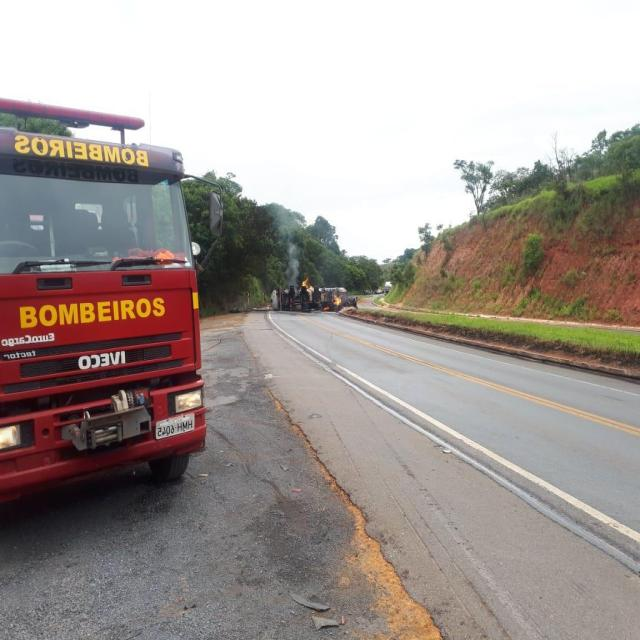Fire: (332, 293, 343, 306), (302, 276, 308, 288)
